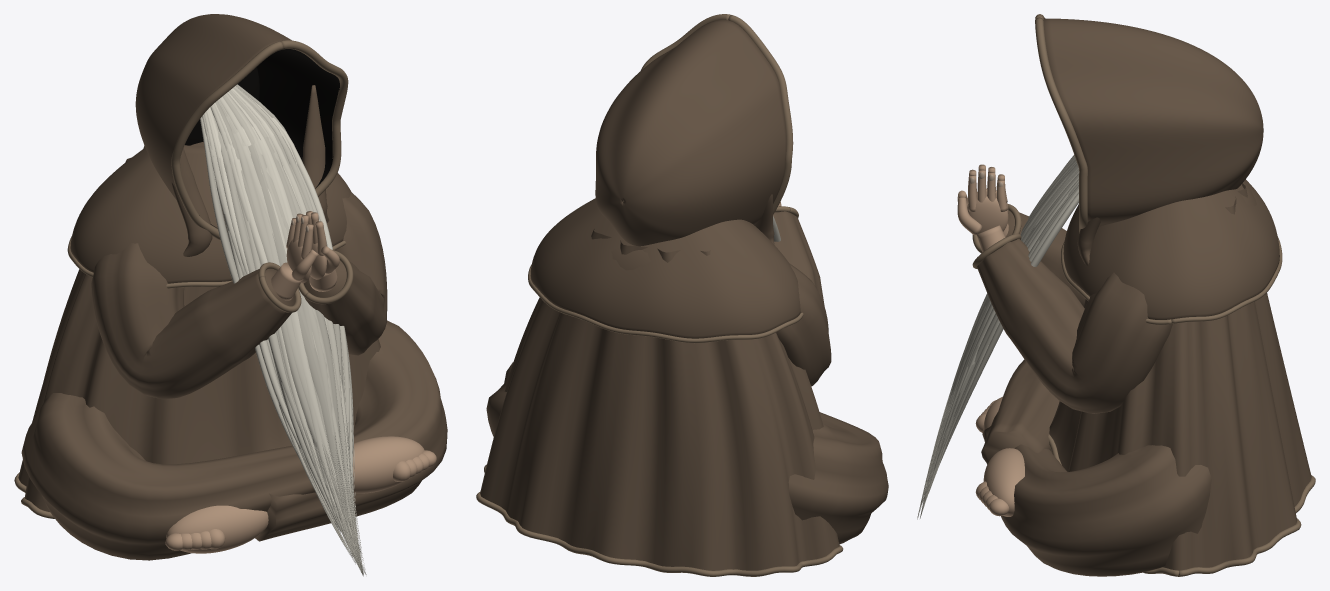
File: praying_monk.gltf
The picture shows the model from 3 angles, left to right: view 1: azimuth 30°, elevation 25°; view 2: azimuth 150°, elevation 25°; view 3: azimuth 270°, elevation 25°; orthographic projection. The views are drawn at different scales.
Parts seen in each view (by area): view 1: Praying monk | static runtime; view 2: Praying monk | static runtime; view 3: Praying monk | static runtime.
Part boxes in pixels (<box>): Praying monk | static runtime: <box>14,14,447,576</box>; Praying monk | static runtime: <box>476,14,888,576</box>; Praying monk | static runtime: <box>917,14,1315,576</box>.
Bounding box in the file's own units: 1.21 × 1.48 × 1.08.
